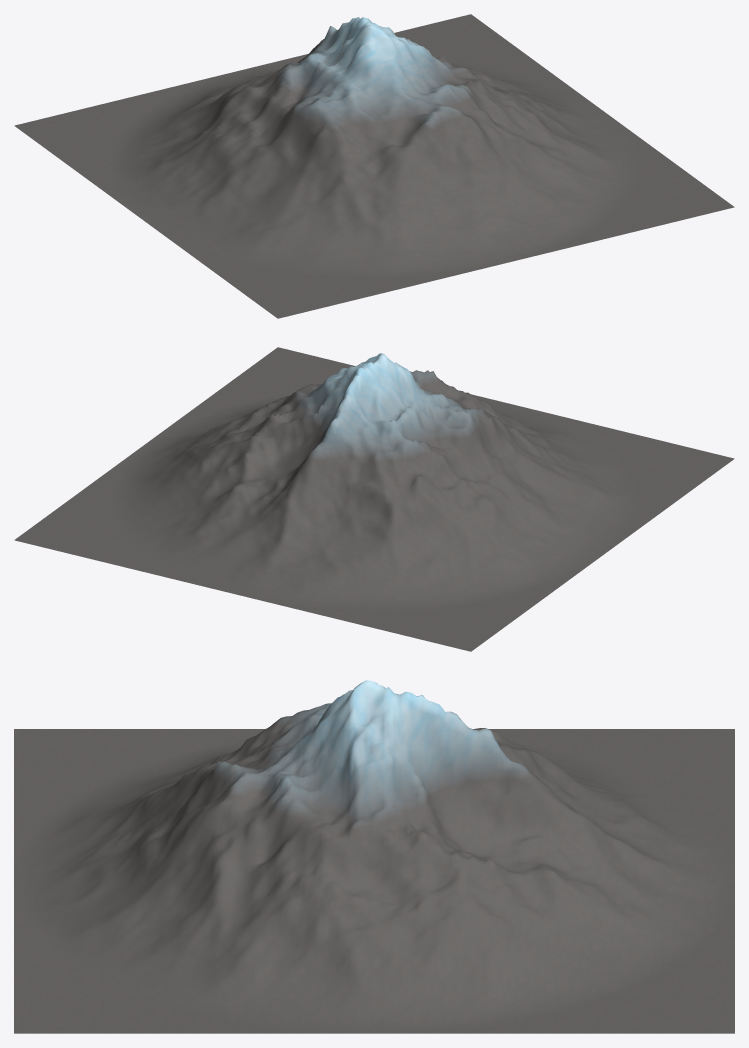
The model's file is Mountain.fbx.
The picture shows the model from 3 angles, top to bottom: view 1: azimuth 30°, elevation 25°; view 2: azimuth 150°, elevation 25°; view 3: azimuth 270°, elevation 25°; orthographic projection. The views are drawn at different scales.
Parts seen in each view (by area): view 1: Landscape.002; view 2: Landscape.002; view 3: Landscape.002.
Boxes of the visible parts, x1,y1,x2,y2 form: Landscape.002: (14,14,734,318); Landscape.002: (14,347,734,651); Landscape.002: (14,680,734,1033).
Size of the model in its own units: 2 by 2 by 0.6042.
Materials: 1 (1 with a texture image).
